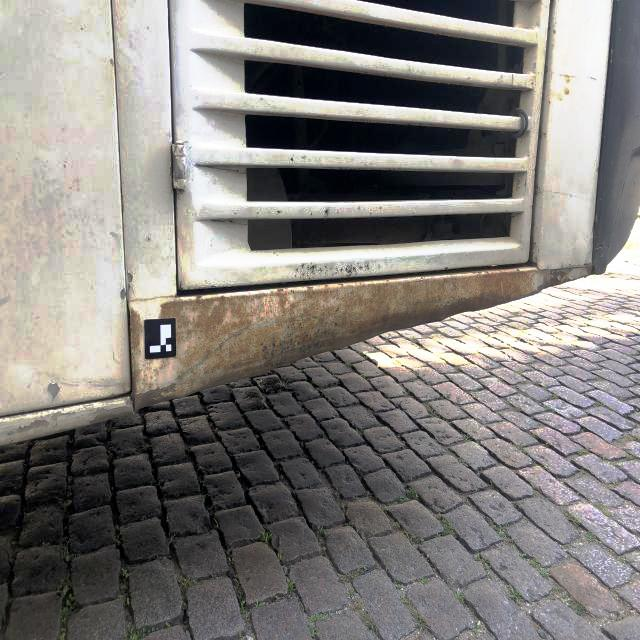Corrosion: (131, 267, 539, 409), (526, 268, 573, 297)
